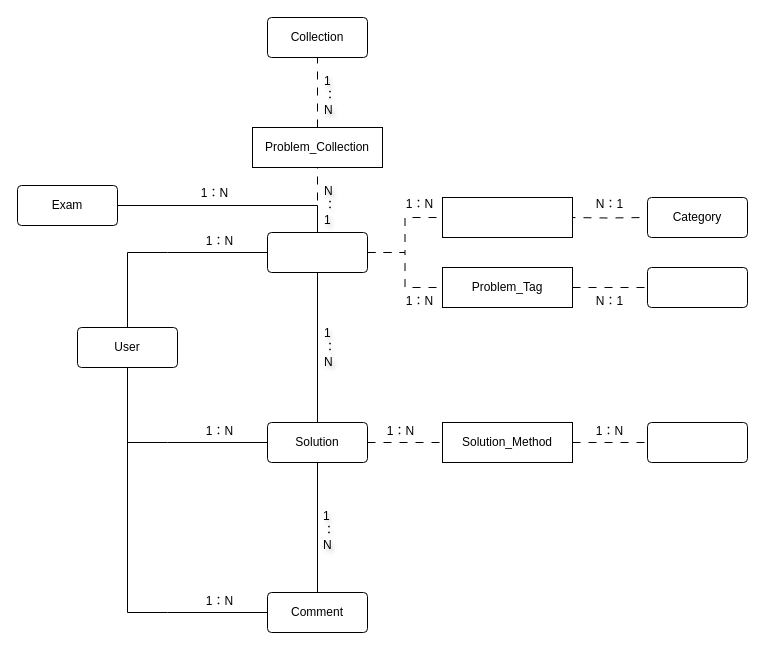
The diagram is 765 pixels wide and 650 high, and some of its shapes have lost their labels. Each missing label, with the centre of its shape:
"Problem" goes at point 317,252.
"Problem_Category" goes at point 507,217.
"Solution Tag" goes at point 697,442.
"Tag" goes at point 697,287.
